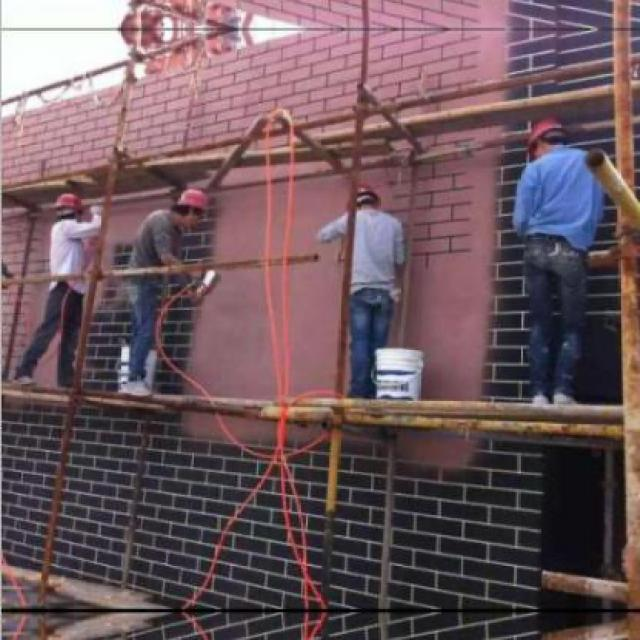helmet: (523, 114, 569, 159), (170, 188, 208, 231), (342, 182, 383, 213), (52, 191, 82, 227)
